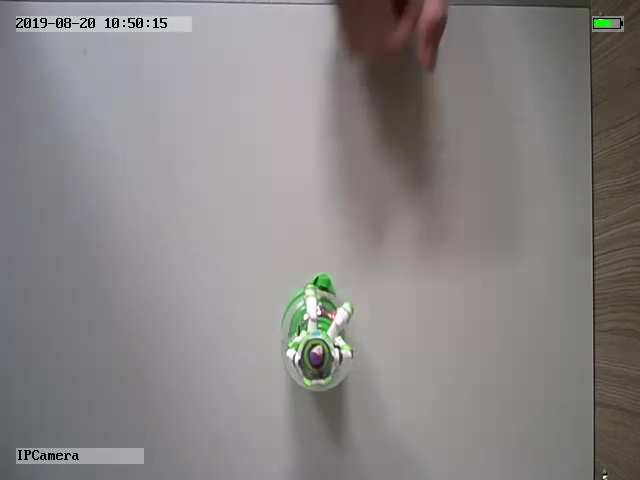buzz: (279, 271, 356, 394)
